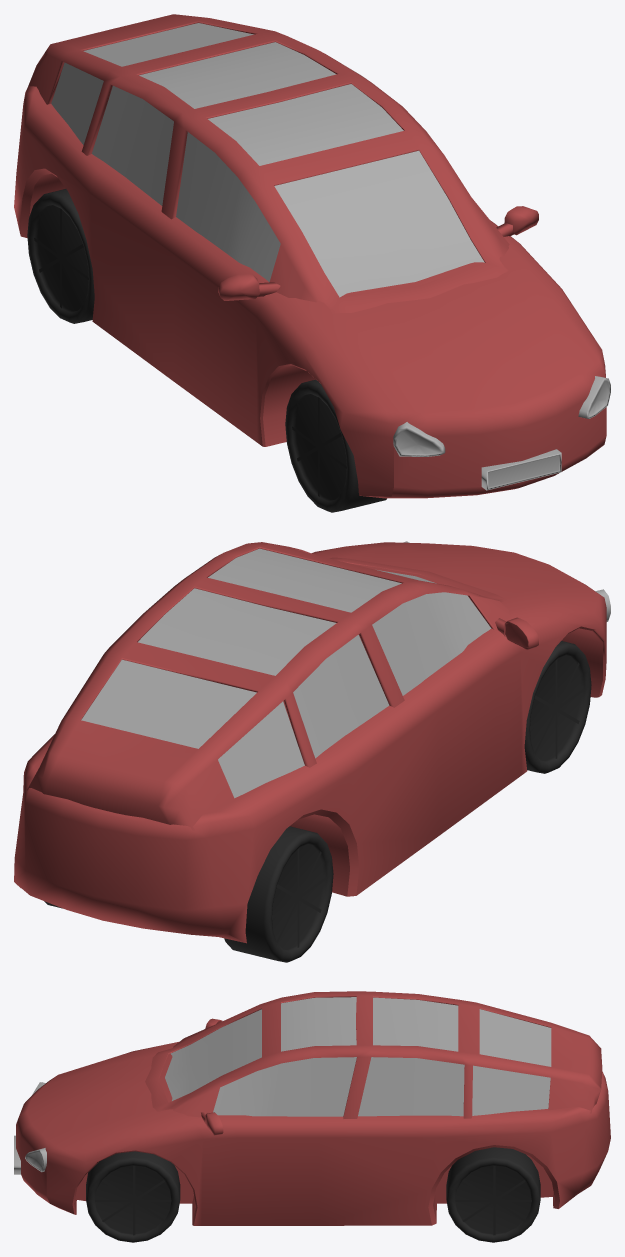
The model's file is Tesla.fbx.
3 renders of one model, top to bottom at view 1: azimuth 30°, elevation 25°; view 2: azimuth 150°, elevation 25°; view 3: azimuth 270°, elevation 25°, orthographic. The views are drawn at different scales.
Parts seen in each view (by area): view 1: Tesla_Body, Glass, Wheel6, Wheel7, Lights, Mirrors, Number; view 2: Tesla_Body, Glass, Wheel7, Wheel6, Mirrors; view 3: Tesla_Body, Glass, Wheel7, Wheel6, Mirrors, Lights.
Boxes of the visible parts, <box> form: Tesla_Body: <box>14,14,606,498</box>; Glass: <box>51,23,484,297</box>; Wheel6: <box>285,379,386,512</box>; Wheel7: <box>27,189,94,323</box>; Lights: <box>393,376,610,456</box>; Mirrors: <box>218,206,538,300</box>; Number: <box>481,449,561,490</box>; Tesla_Body: <box>14,542,606,943</box>; Glass: <box>81,548,491,798</box>; Wheel7: <box>44,826,333,962</box>; Wheel6: <box>524,641,591,773</box>; Mirrors: <box>495,617,538,650</box>; Tesla_Body: <box>16,991,610,1225</box>; Glass: <box>165,997,551,1116</box>; Wheel7: <box>446,1147,540,1242</box>; Wheel6: <box>86,1151,180,1242</box>; Mirrors: <box>201,1018,223,1135</box>; Lights: <box>25,1082,46,1172</box>.
Size of the model in its own units: 0.0693 by 0.0547 by 0.161.
